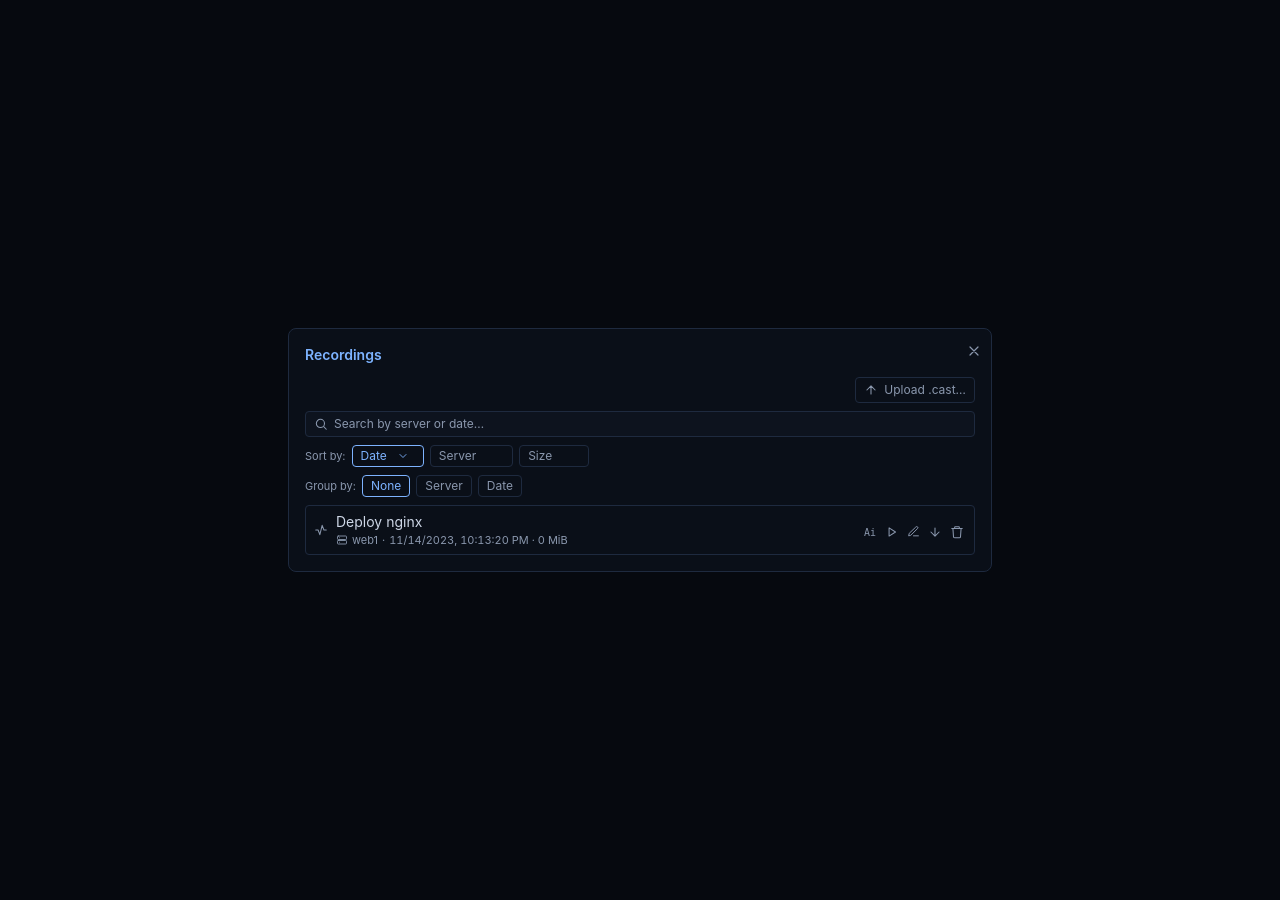
Test: RecordingsPanel — AI generation (Phase 17.5–17.6) › streams the plan into the viewer after confirming
Click the button with test id "rec-ai" at coordinates (870, 530), box [861, 516, 879, 544]
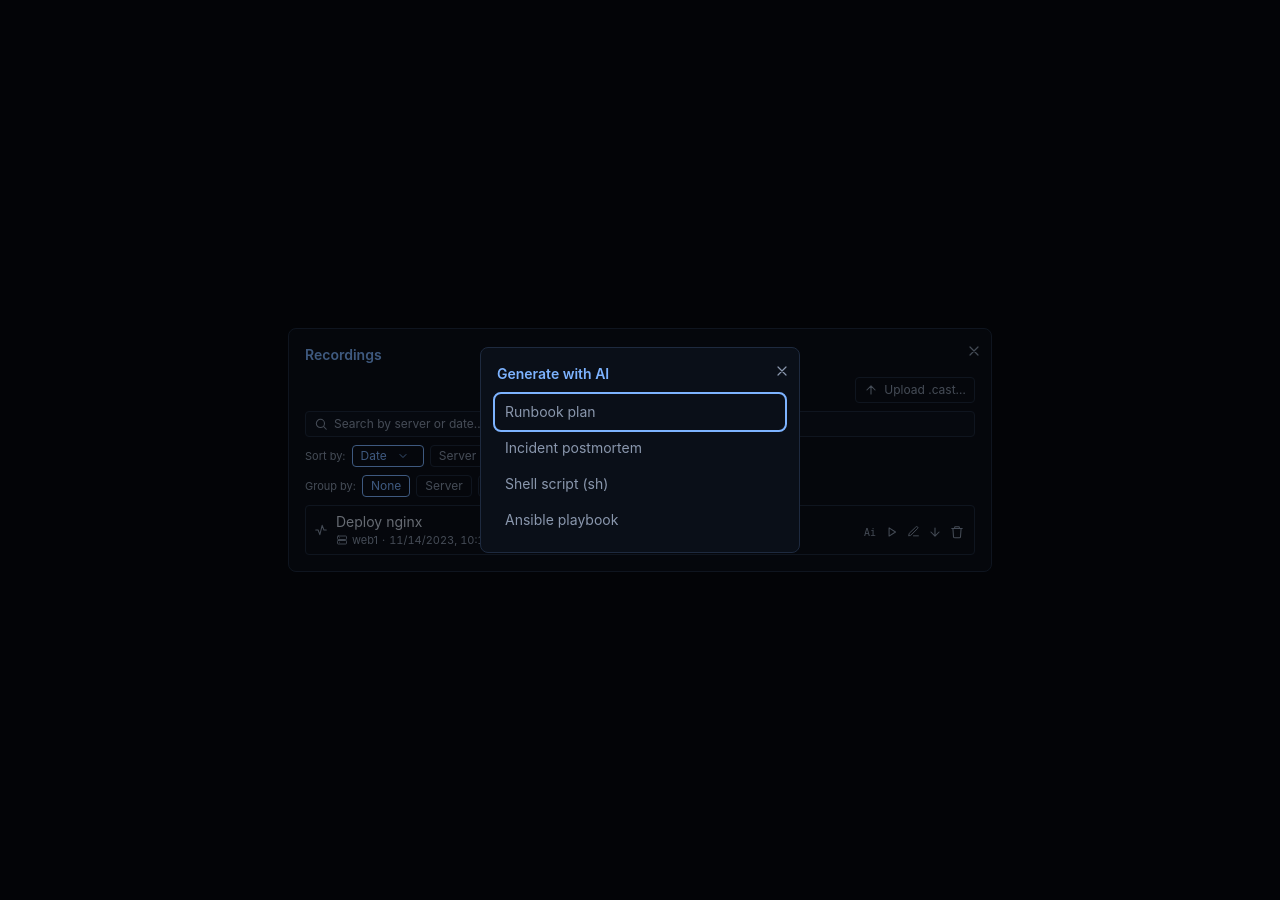
Click the button with test id "rec-gen-plan" at coordinates (550, 412), box [497, 396, 783, 428]
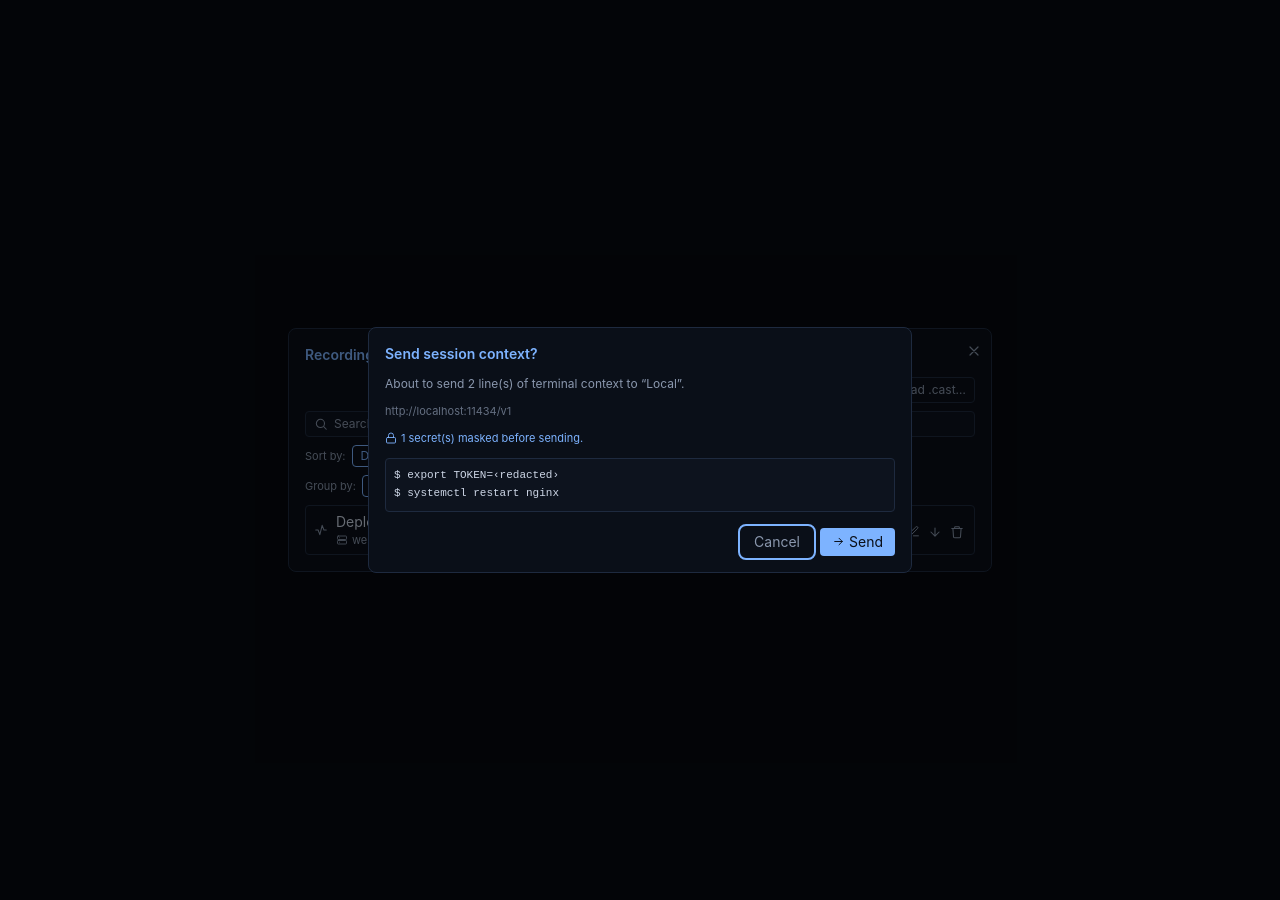
Click the button with test id "ai-consent-confirm" at coordinates (858, 542), box [820, 528, 895, 556]
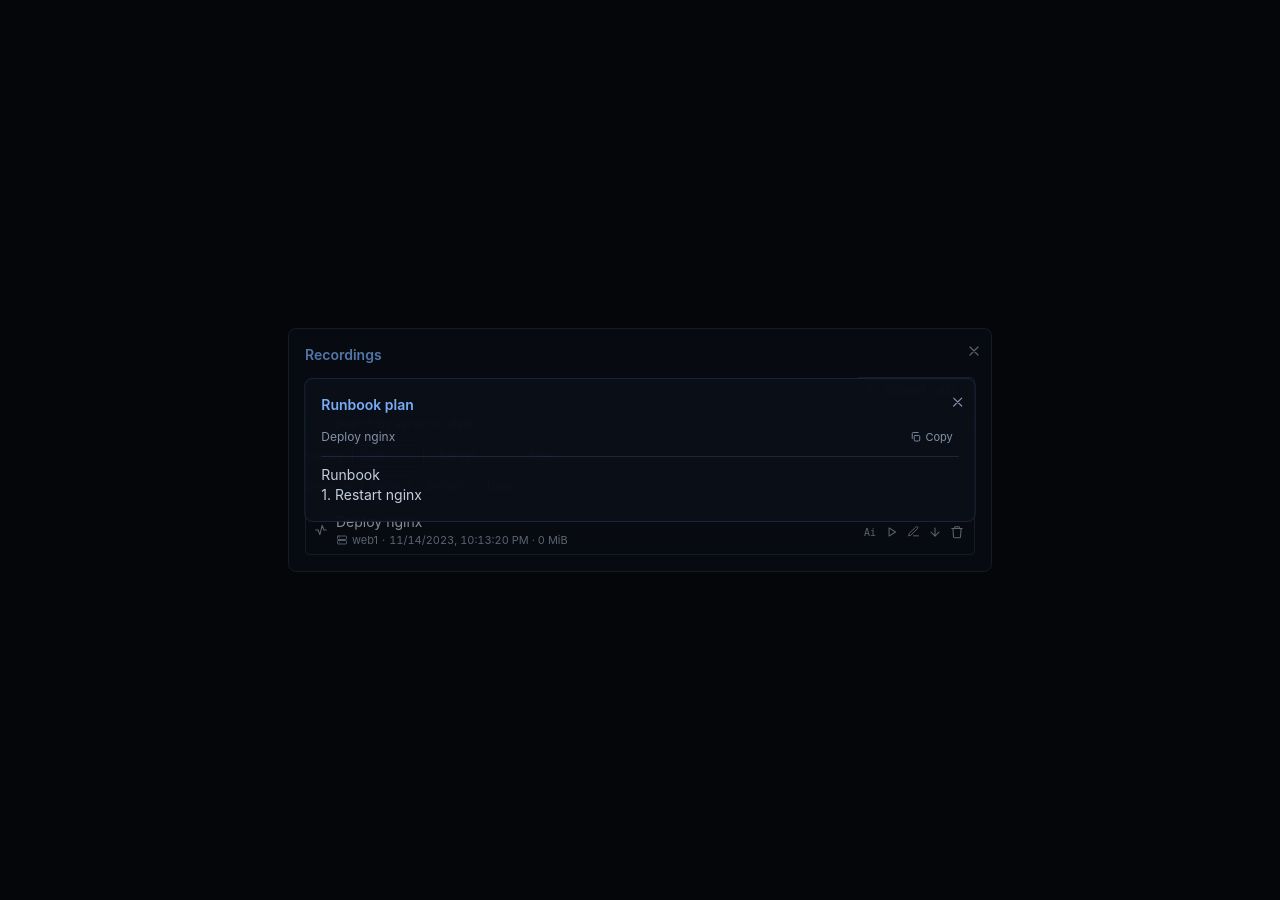
Check: the element with test id "rec-plan-view" shows "Runbook", box [321, 466, 380, 483]
